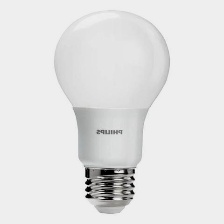light_bulb: (50, 6, 172, 215)
